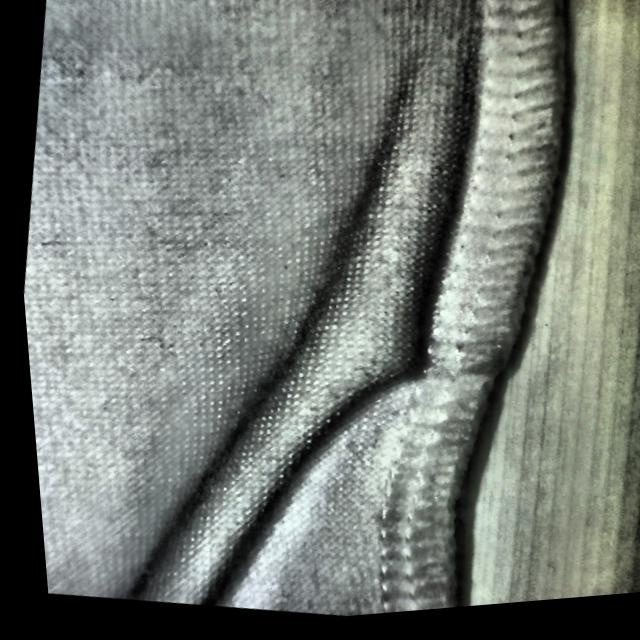seam: (255, 190, 560, 492)
